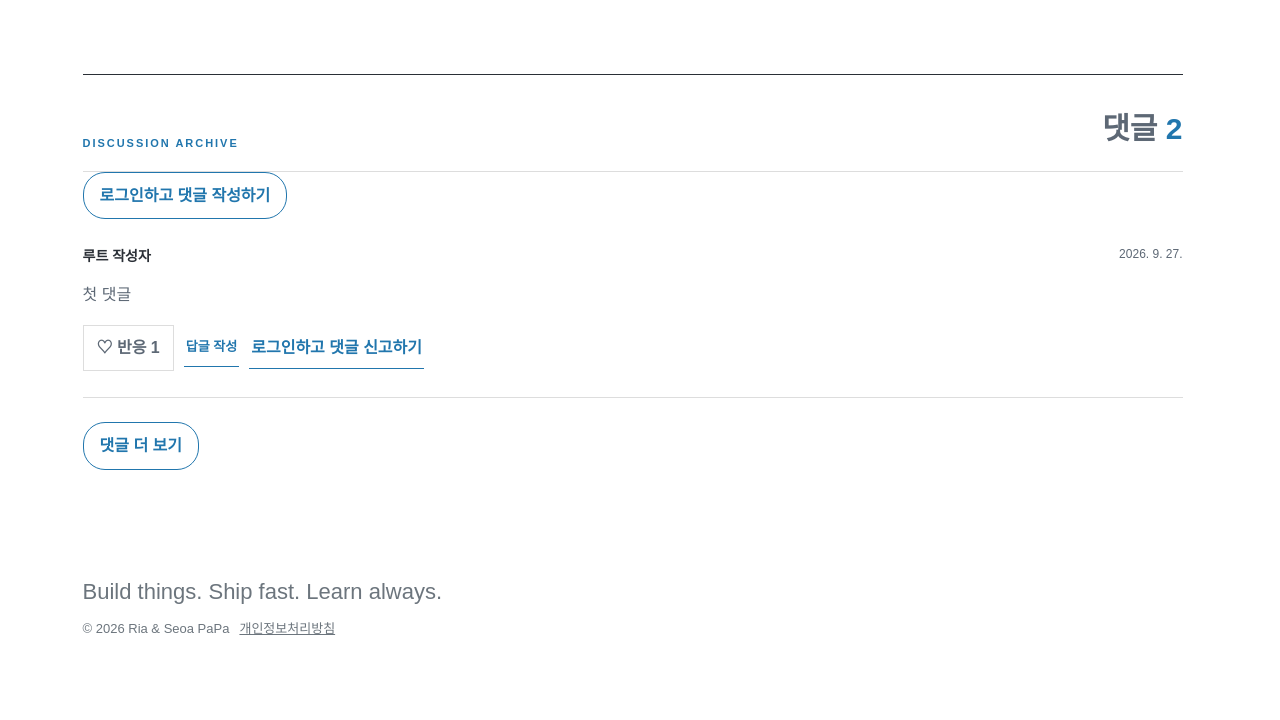
Scenario: PostDetailPage › retries comment pagination and appends in server order without duplicates or orphan nesting
(page scrolled)
Click the button "댓글 더 보기": (141,446) left=82, top=422, right=199, bottom=470
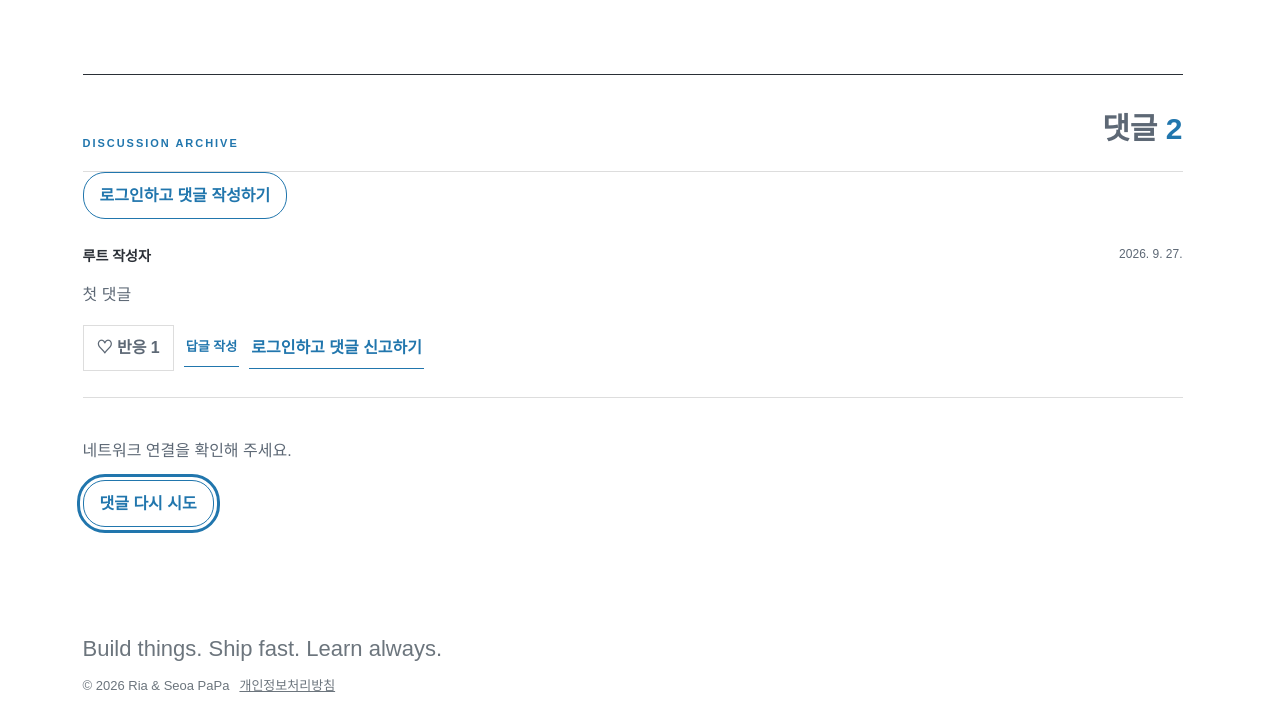
Check: the message named "댓글을 더 불러오지 못했습니다" is shown, box left=82, top=442, right=292, bottom=527
Click the button "댓글 다시 시도": (148,503) left=82, top=480, right=214, bottom=527
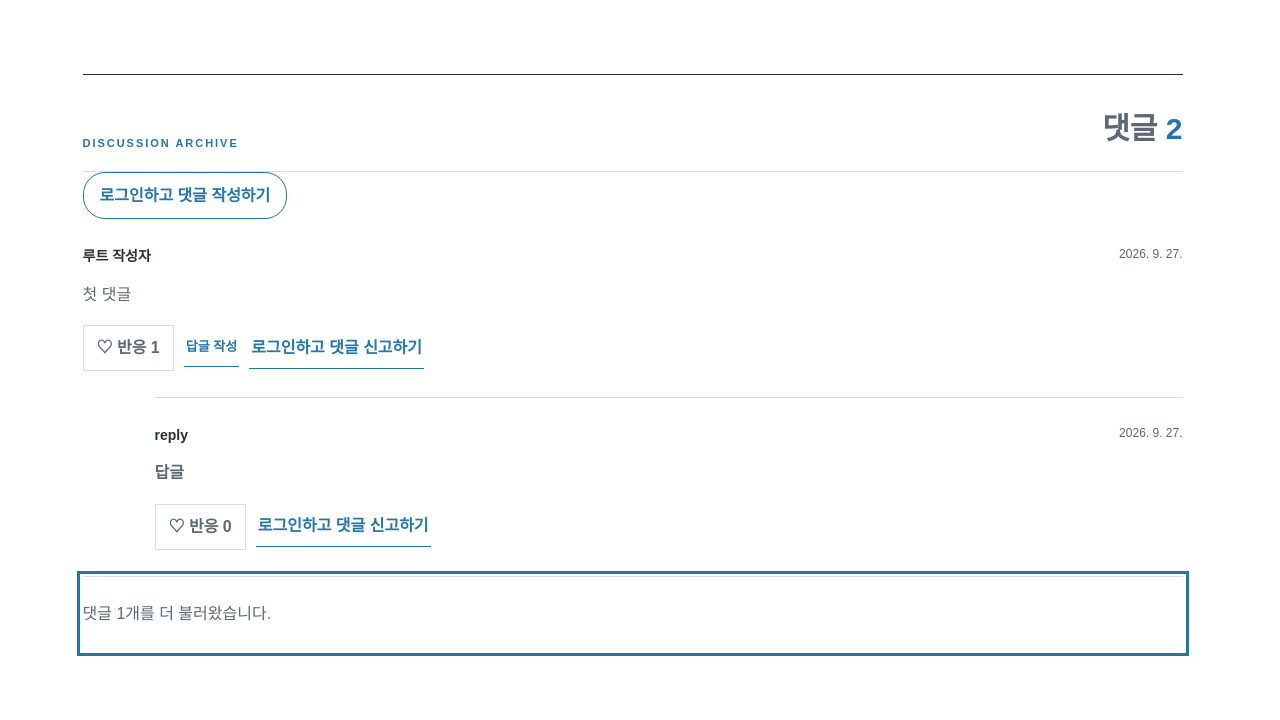
Check: the text "첫 댓글" is shown once, box left=82, top=286, right=131, bottom=303
Check: the text "답글" is shown, box left=154, top=464, right=184, bottom=481
Check: the message named "댓글 추가 로드 결과" reads "댓글 1개를 더 불러왔습니다.", box left=82, top=605, right=271, bottom=622
